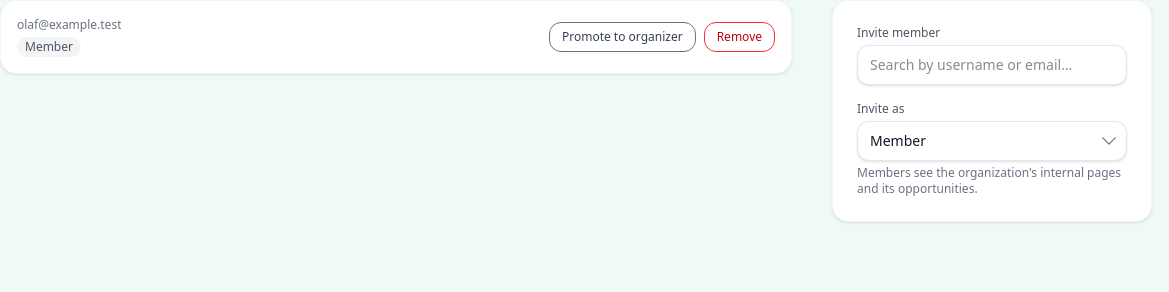
Test case: OrgMembersPage invite search › points an unregistered email at signing the person up
The image size is (1169, 292).
Type "brandnewperson@example.test" into the search field labelled "Invite member". click: (992, 65)
box: [857,45,1127,85]
Wait 400 ms
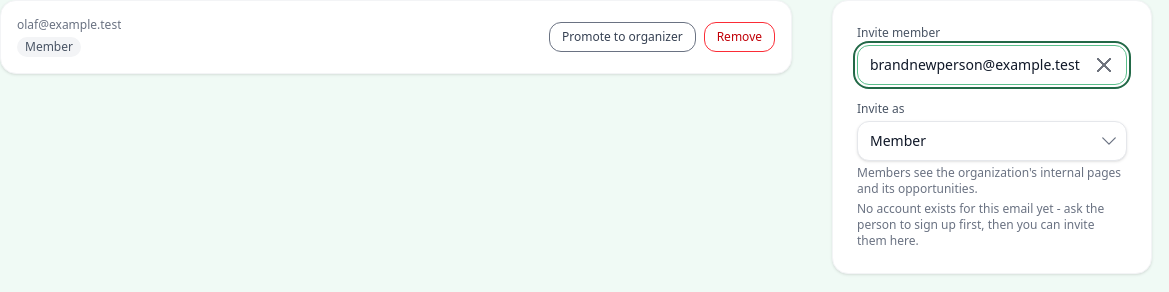
Expected: the text "ask the person to sign up" is shown, [857,200,1104,249]
